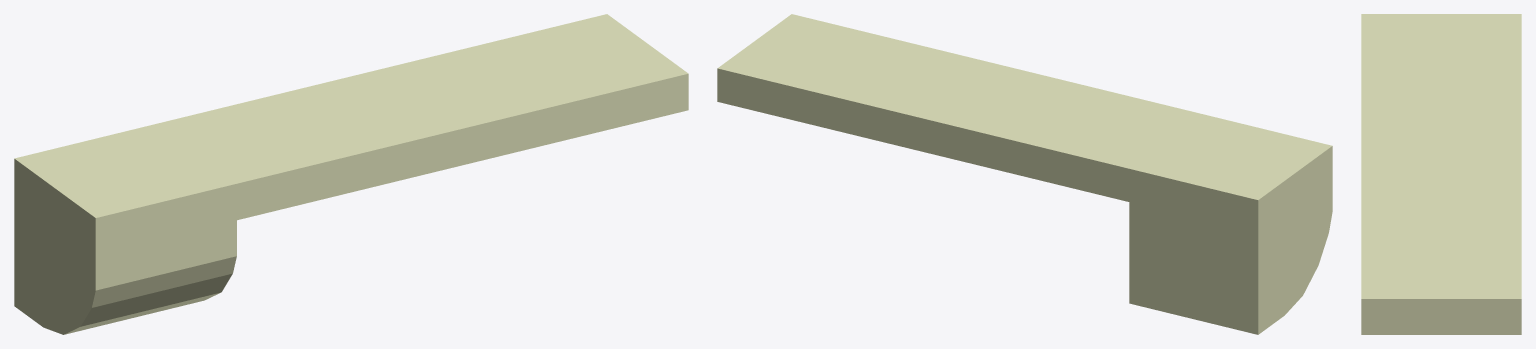
File: c unit.fbx
3 renders of one model, left to right at view 1: azimuth 30°, elevation 25°; view 2: azimuth 150°, elevation 25°; view 3: azimuth 270°, elevation 25°, orthographic. The views are drawn at different scales.
Parts seen in each view (by area): view 1: a/c; view 2: a/c; view 3: a/c.
Part boxes in pixels (x1,y1,x2,y2): a/c: (14, 14, 688, 334); a/c: (717, 14, 1332, 334); a/c: (1361, 14, 1521, 334).
Bounding box in the file's own units: 420 × 100 × 100.
